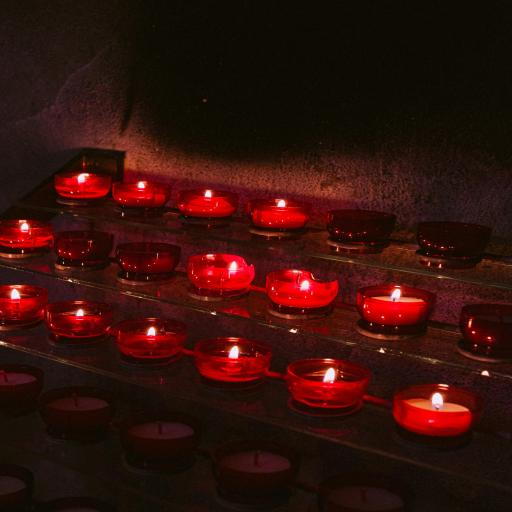candlelight: (206, 441, 298, 509), (280, 358, 376, 416), (185, 253, 263, 300), (414, 221, 493, 267), (326, 210, 398, 252), (248, 199, 315, 242), (54, 162, 110, 202), (111, 180, 173, 216), (0, 222, 55, 261), (186, 190, 232, 216)
